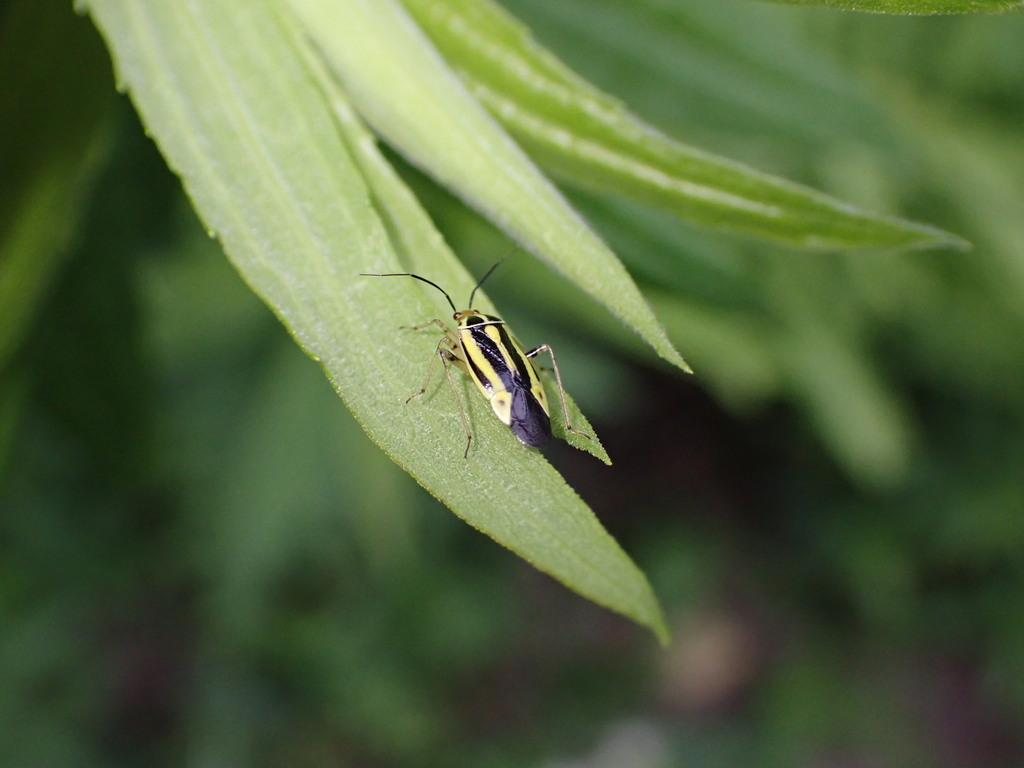plant_bugs: (343, 228, 633, 494)
